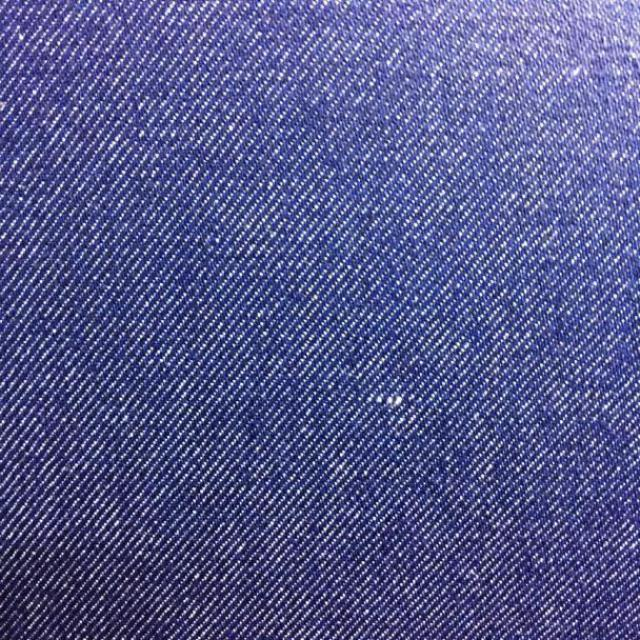Knot: (368, 395, 406, 409)
